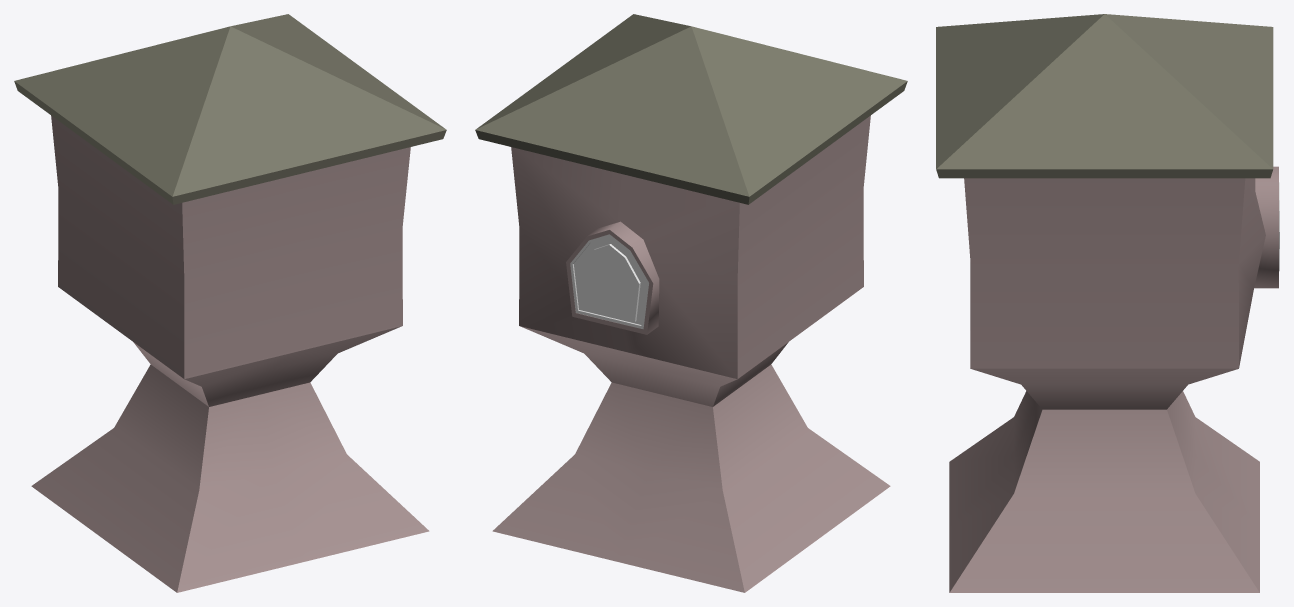
File: Mailbox2.fbx
3 renders of one model, left to right at view 1: azimuth 30°, elevation 25°; view 2: azimuth 150°, elevation 25°; view 3: azimuth 270°, elevation 25°, orthographic. The views are drawn at different scales.
Parts seen in each view (by area): view 1: pCube1; view 2: pCube1, polySurface2; view 3: pCube1.
Boxes of the visible parts, box(x1,y1,x2,y2) form: pCube1: box(14, 14, 446, 592); pCube1: box(475, 14, 907, 592); polySurface2: box(570, 234, 648, 329); pCube1: box(936, 14, 1278, 592).
Size of the model in its own units: 2.12 by 3.56 by 2.16.
